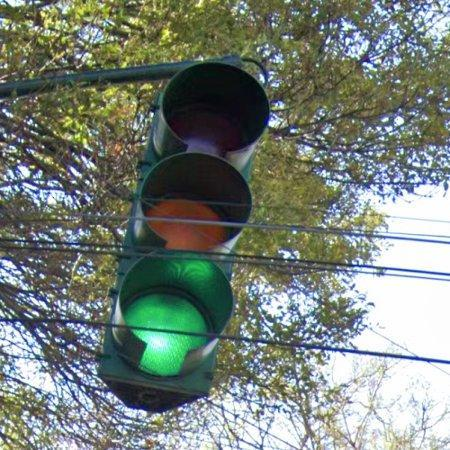traffic lights: (98, 61, 269, 412)
